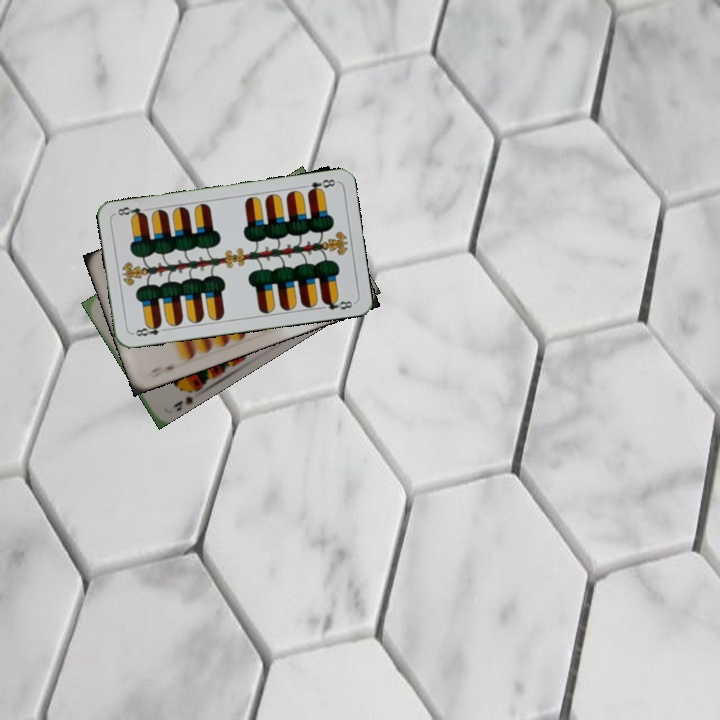E8: (129, 319, 169, 339), (303, 175, 339, 196)
E9: (144, 361, 183, 381)
S9: (168, 382, 200, 413)
